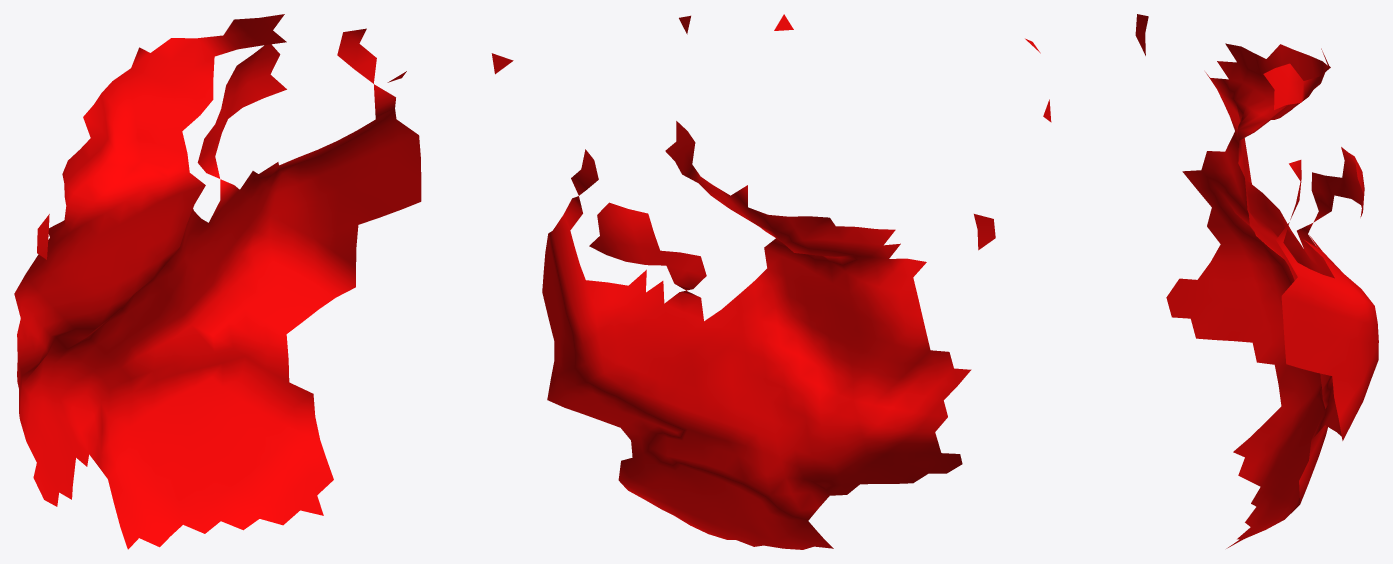
The model's file is SM_GPUI_RockBB_70.fbx.
3 views of the same model, side by side, from view 1: azimuth 30°, elevation 25°; view 2: azimuth 150°, elevation 25°; view 3: azimuth 270°, elevation 25° (orthographic). The views are drawn at different scales.
Visible parts, largest first — view 1: SM_GPUI_RockBB_70; view 2: SM_GPUI_RockBB_70; view 3: SM_GPUI_RockBB_70.
Part boxes in pixels (left/top/right/bottom): SM_GPUI_RockBB_70: left=14, top=14, right=513, bottom=549; SM_GPUI_RockBB_70: left=542, top=14, right=995, bottom=549; SM_GPUI_RockBB_70: left=1025, top=14, right=1378, bottom=548.
Size of the model in its own units: 952 by 1047 by 664.
